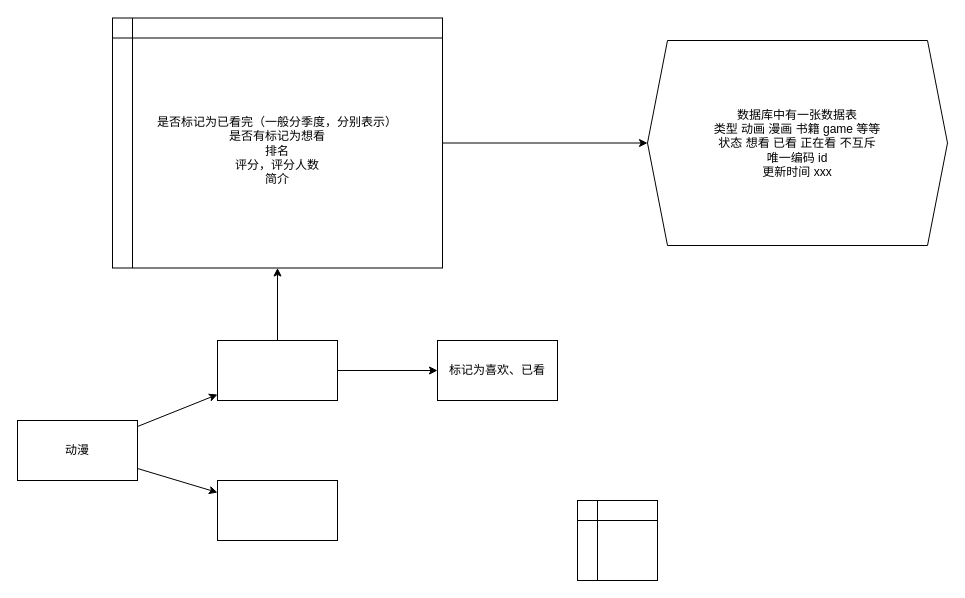
Some shapes in this 965 by 598 pixel diagram are drawn without their labels. Here are the shapes that lost their labels. From the top down, the centre of each, then its label:
point 277,370: 分类检索页
point 277,510: 详情页
